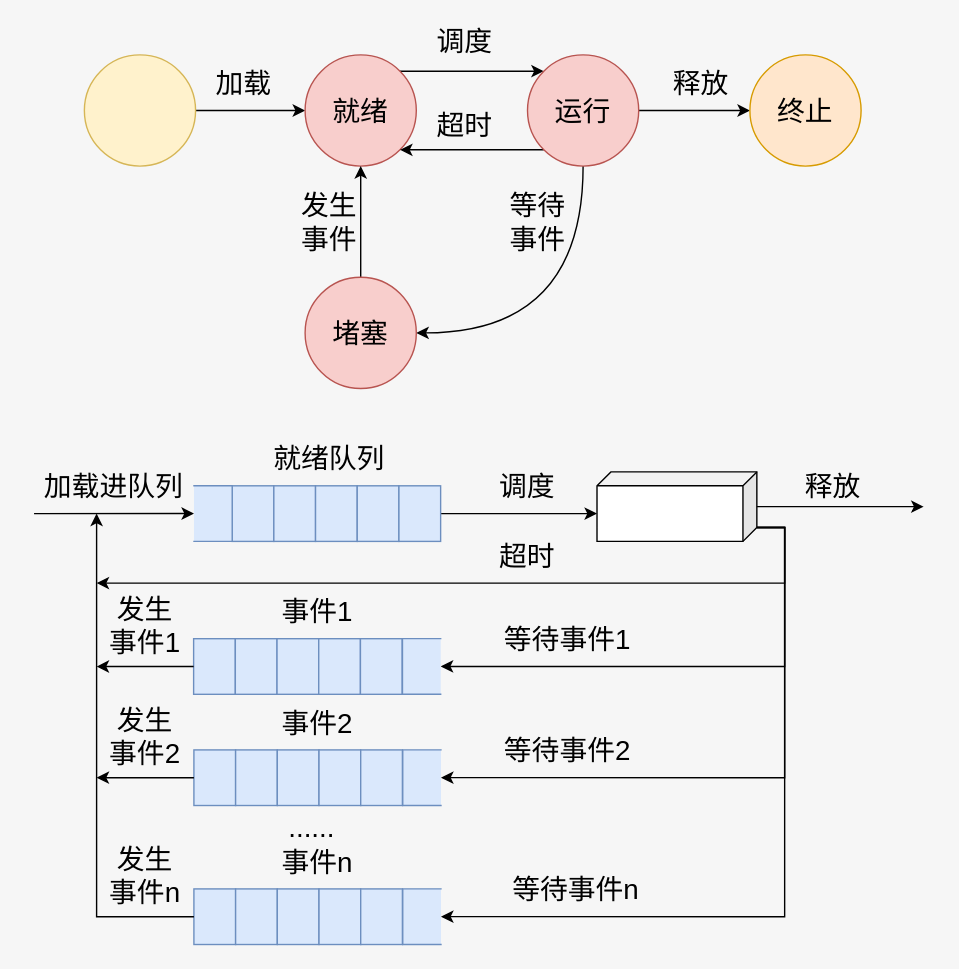
The diagram is 959 pixels wide and 969 high, and some of its shapes have lost their labels. Here are the shapes that lost their labels. From the top down, the centre of each, then its label:
At (x=139, y=110): "新建".
At (x=676, y=506): "处理器".
